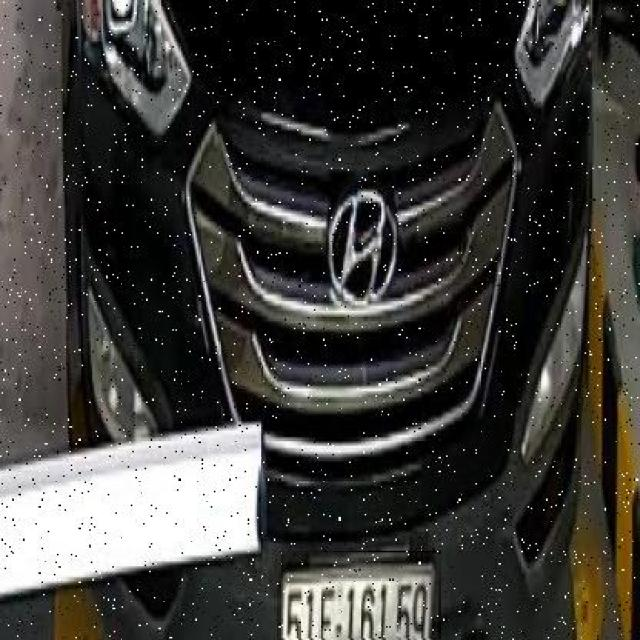number_plate: (278, 551, 439, 638)
